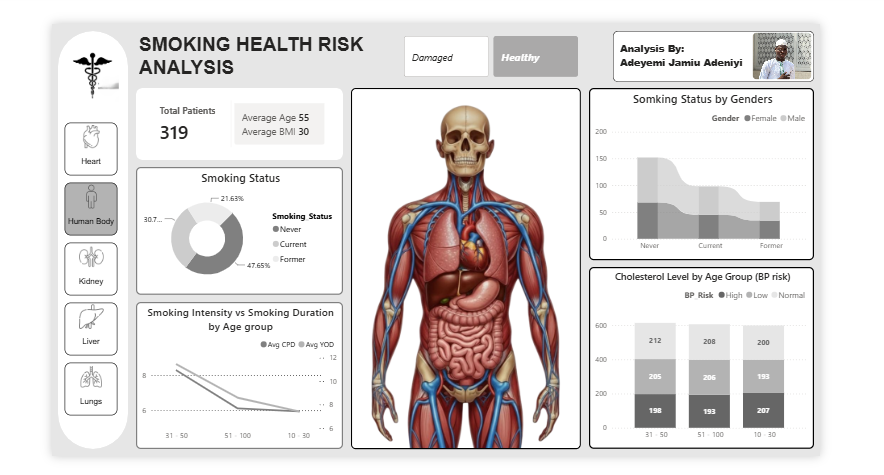

What the dashboard file says about the page in this screenshot:
{"tool":"powerbi","page":{"name":"Page 1","canvas":[1280,720],"ordinal":0},"visuals":[{"type":"shape","box":[10,11.7,116.7,696.7],"z":0},{"type":"shape","box":[140,106.7,345,120],"z":1000},{"type":"advancedSlicerVisual","fields":{"Values":["condition.Organ_Condition"]},"box":[581.7,15,300,78.3],"z":2000},{"type":"image","box":[498.3,106.7,383.3,601.7],"z":3000},{"type":"ChicletSlicer1448559807354","fields":{"Category":["Organs.Organ"],"Image":["Organs.Icon_URL"]},"box":[10.1,154.1,116.6,512.6],"z":4000},{"type":"cardVisual","fields":{"Data":["Count(health_dataset.Patient_ID)"]},"box":[150,110,326.7,113.3],"z":5000},{"type":"donutChart","title":"Smoking Status","fields":{"Category":["health_dataset.Smoking_Status"],"Y":["CountNonNull(health_dataset.Smoking_Status)"]},"box":[140,238.3,345,213.3],"z":6000},{"type":"lineChart","title":"Smoking Intensity vs Smoking Duration by Age group","fields":{"Category":["health_dataset.Age groups"],"Y":["Avg(health_dataset.Cigarettes_Per_Day)"],"Y2":["Avg(health_dataset.Years_of_Smoking)"]},"box":[140,463.3,345,245],"z":7000},{"type":"ribbonChart","title":"Somking Status by Genders","fields":{"Category":["health_dataset.Smoking_Status"],"Series":["health_dataset.Gender"],"Y":["CountNonNull(health_dataset.Gender)"]},"box":[895,106.7,375,286.7],"z":8000},{"type":"columnChart","title":"Cholesterol Level by Age Group (BP risk)","fields":{"Series":["health_dataset.BP_Risk"],"Category":["health_dataset.Age groups"],"Y":["Avg(health_dataset.Cholesterol_Level)"]},"box":[895,405,375,303.3],"z":9000},{"type":"image","box":[23.3,38.3,88.3,93.3],"z":10000},{"type":"textbox","box":[140,11.7,403.3,85],"z":11000},{"type":"shape","box":[935,11.7,335,85],"z":11500},{"type":"image","box":[1166,14,100,80],"z":12000},{"type":"textbox","box":[942,23.3,218.3,61.7],"z":14000}]}

Visuals, with their boxes on the page's 1280x720 design canvas (x1, y1, x2, y2). These are canvas units, not pixel positions in the 884x475 screenshot, which may show the page scaled, cropped or inside an application window:
shape: Rect(10, 12, 127, 708)
shape: Rect(140, 107, 485, 227)
advancedSlicerVisual - condition.Organ_Condition: Rect(582, 15, 882, 93)
image: Rect(498, 107, 882, 708)
ChicletSlicer1448559807354 - Organs.Organ x Organs.Icon_URL: Rect(10, 154, 127, 667)
cardVisual - Count(health_dataset.Patient_ID): Rect(150, 110, 477, 223)
"Smoking Status" donutChart: Rect(140, 238, 485, 452)
"Smoking Intensity vs Smoking Duration by Age group" lineChart: Rect(140, 463, 485, 708)
"Somking Status by Genders" ribbonChart: Rect(895, 107, 1270, 393)
"Cholesterol Level by Age Group (BP risk)" columnChart: Rect(895, 405, 1270, 708)
image: Rect(23, 38, 112, 132)
textbox: Rect(140, 12, 543, 97)
shape: Rect(935, 12, 1270, 97)
image: Rect(1166, 14, 1266, 94)
textbox: Rect(942, 23, 1160, 85)
